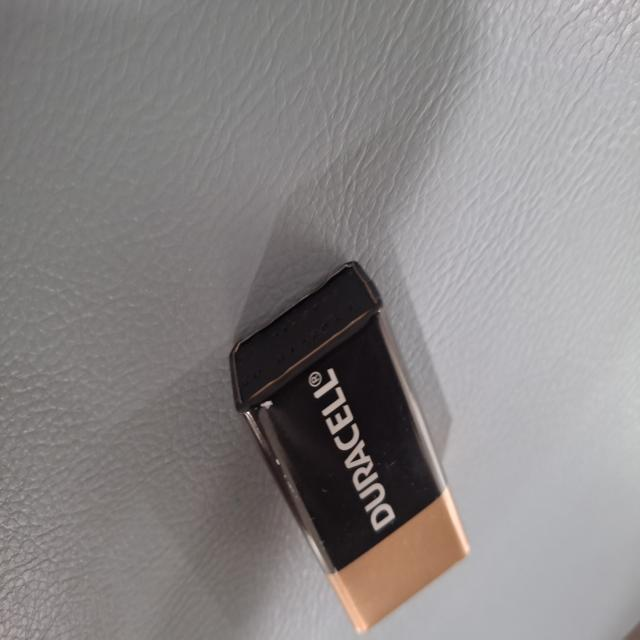9V: (170, 10, 408, 378)
